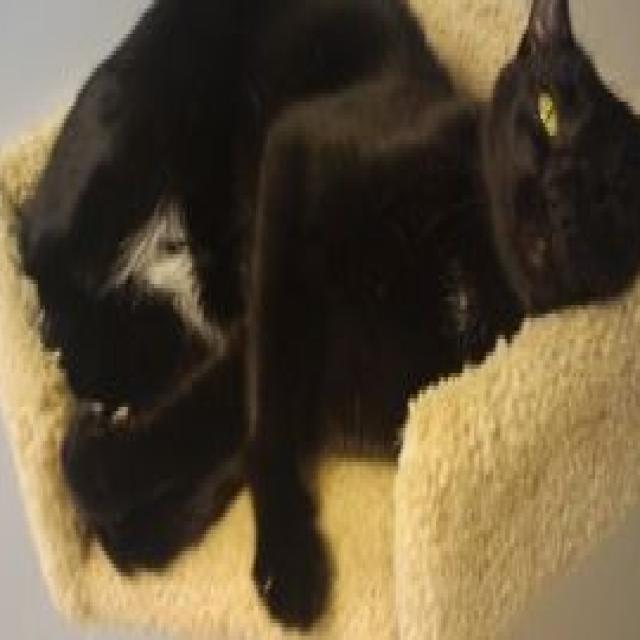Bombay: (19, 0, 640, 632)
